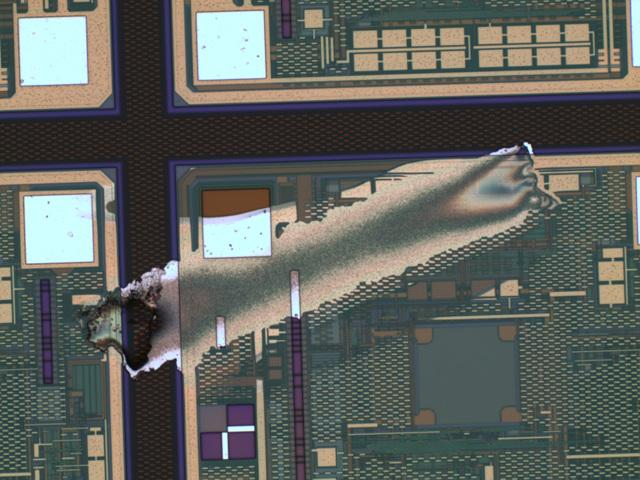BLOCK ETCH: (84, 145, 564, 372)
